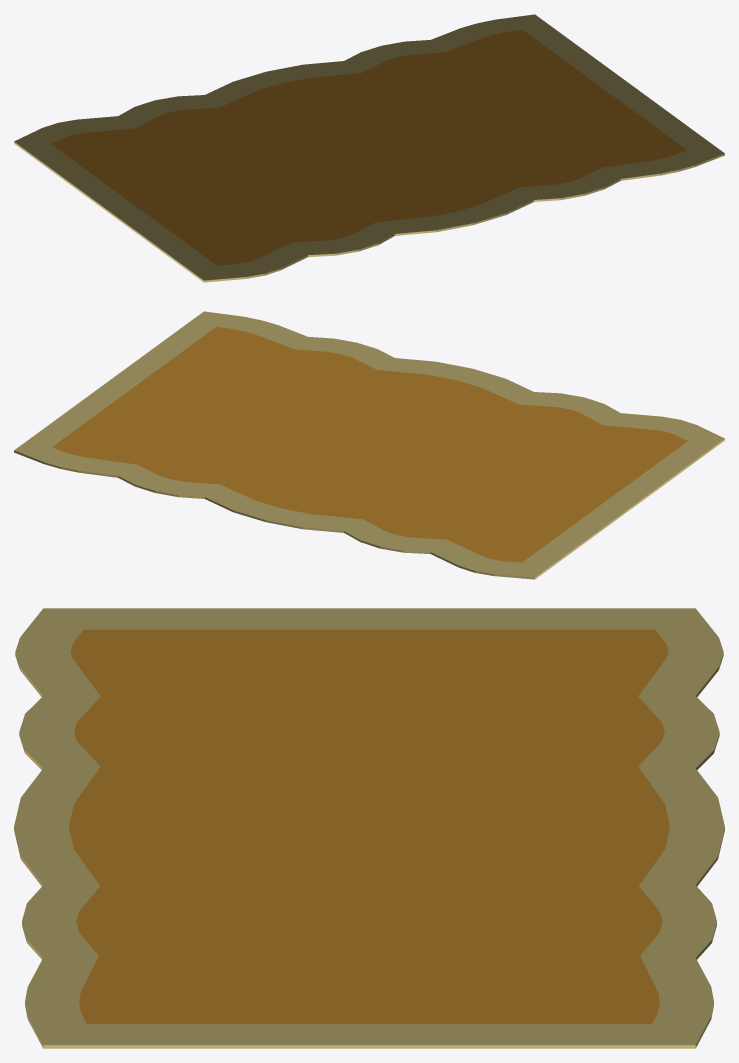
File: Toast Mat.fbx
3 renders of one model, top to bottom at view 1: azimuth 30°, elevation 25°; view 2: azimuth 150°, elevation 25°; view 3: azimuth 270°, elevation 25°, orthographic. The views are drawn at different scales.
Visible parts, largest first — view 1: Node 0; view 2: Node 0; view 3: Node 0.
Part boxes in pixels (x1,y1,x2,y2): Node 0: (14,14,724,282); Node 0: (14,311,724,579); Node 0: (14,608,724,1048).
Bounding box in the file's own units: 1.31 × 0.00703 × 1.91.
